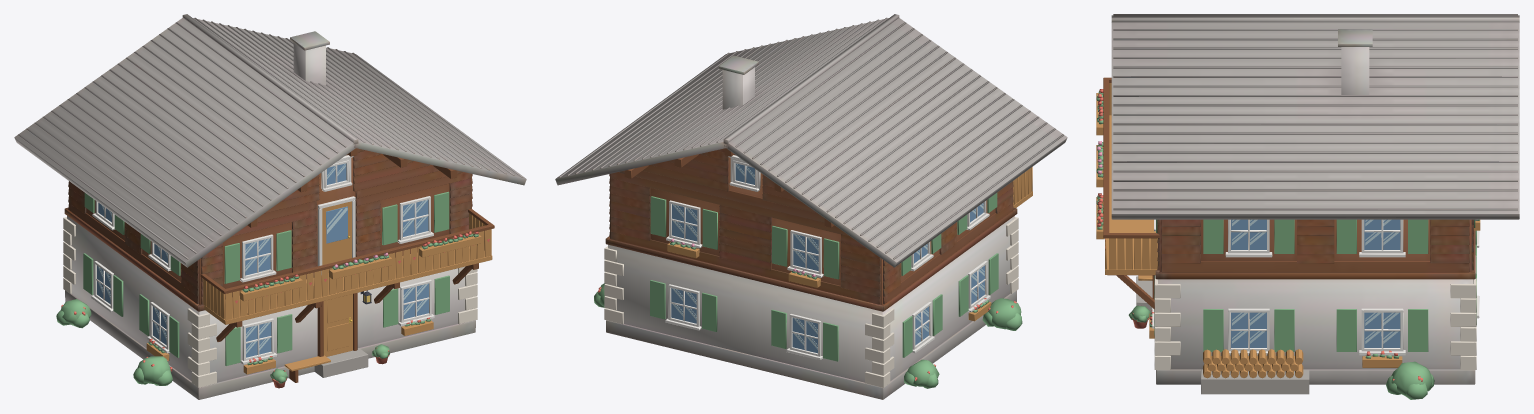
File: alpine-chalet.glb
The picture shows the model from 3 angles, left to right: view 1: azimuth 30°, elevation 25°; view 2: azimuth 150°, elevation 25°; view 3: azimuth 270°, elevation 25°; orthographic projection. The views are drawn at different scales.
Visible parts, largest first — view 1: alpine-chalet_body, alpine-chalet_details, alpine-chalet_flowers, alpine-chalet_glints; view 2: alpine-chalet_body, alpine-chalet_details, alpine-chalet_flowers, alpine-chalet_glints; view 3: alpine-chalet_body, alpine-chalet_details, alpine-chalet_flowers, alpine-chalet_glints.
Boxes of the visible parts, box(x1,y1,x2,y2) form: alpine-chalet_body: box(14, 14, 526, 399); alpine-chalet_details: box(63, 148, 494, 388); alpine-chalet_flowers: box(56, 231, 478, 385); alpine-chalet_glints: box(97, 163, 489, 353); alpine-chalet_body: box(555, 14, 1067, 399); alpine-chalet_details: box(604, 148, 1032, 387); alpine-chalet_flowers: box(594, 238, 1022, 388); alpine-chalet_glints: box(672, 163, 984, 349); alpine-chalet_body: box(1111, 14, 1519, 384); alpine-chalet_details: box(1096, 77, 1480, 394); alpine-chalet_flowers: box(1096, 89, 1479, 399); alpine-chalet_glints: box(1105, 219, 1398, 343).
Size of the model in its own units: 11.44 by 7.95 by 10.15.
20 materials, 1 textured.
